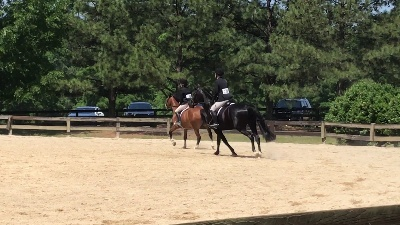jetta: (185, 81, 281, 162)
